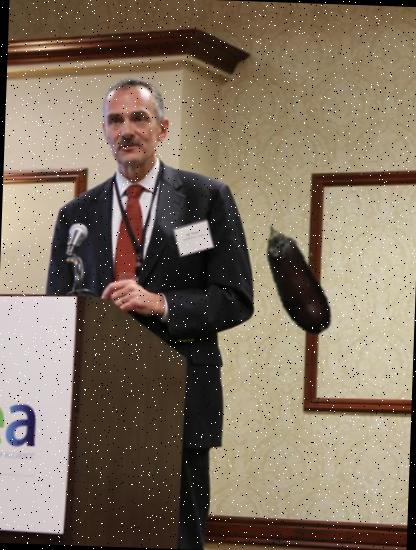Eggplant: (232, 218, 358, 344)
